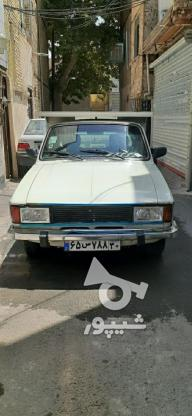car: (61, 239, 122, 251)
